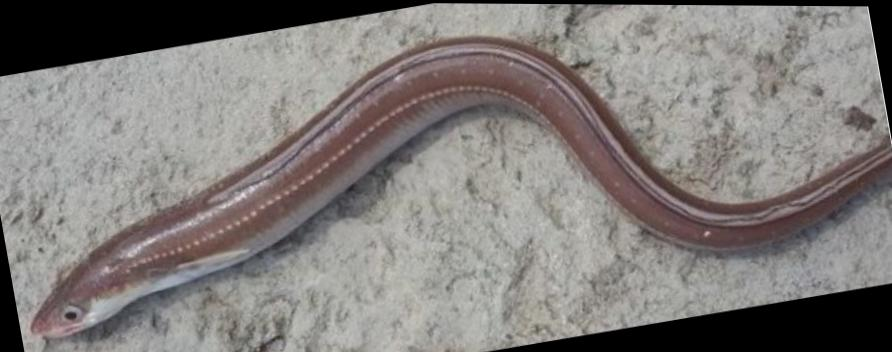fish: (31, 34, 892, 337)
